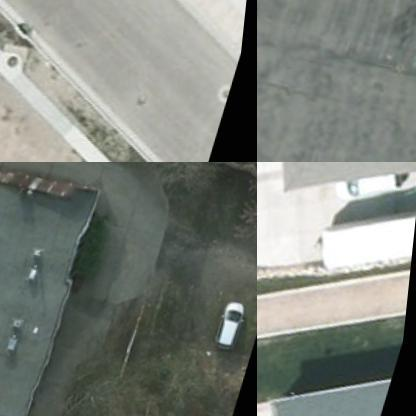camping car: (314, 178, 415, 290)
car: (325, 162, 407, 213), (216, 292, 254, 352)
